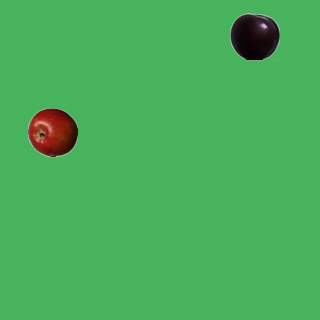Apple Braeburn: (27, 107, 77, 157)
Cherry Wax Black: (229, 11, 279, 61)
